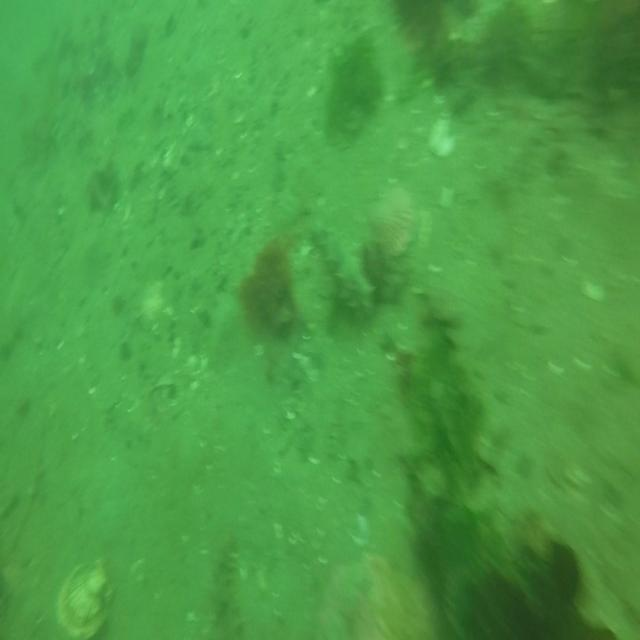holothurian: (208, 528, 247, 640)
scallop: (57, 558, 120, 640), (370, 182, 418, 262), (135, 282, 168, 335)
